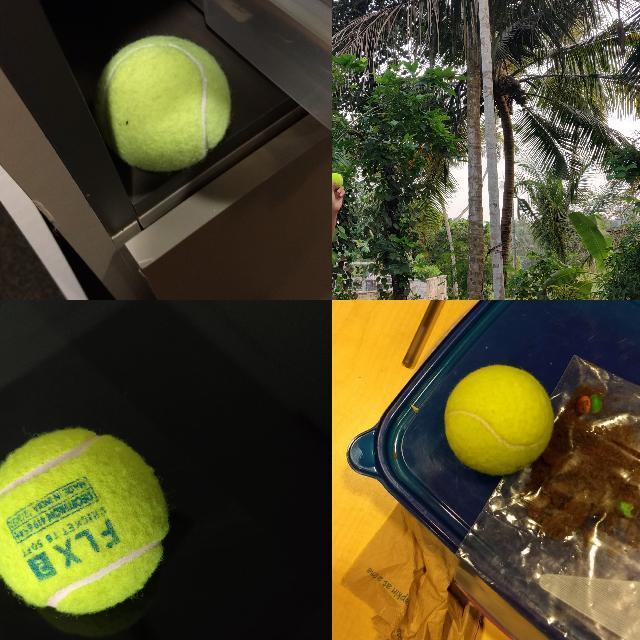tennis-ball: (0, 426, 170, 617), (94, 34, 230, 172), (444, 364, 554, 476), (332, 172, 344, 190)
